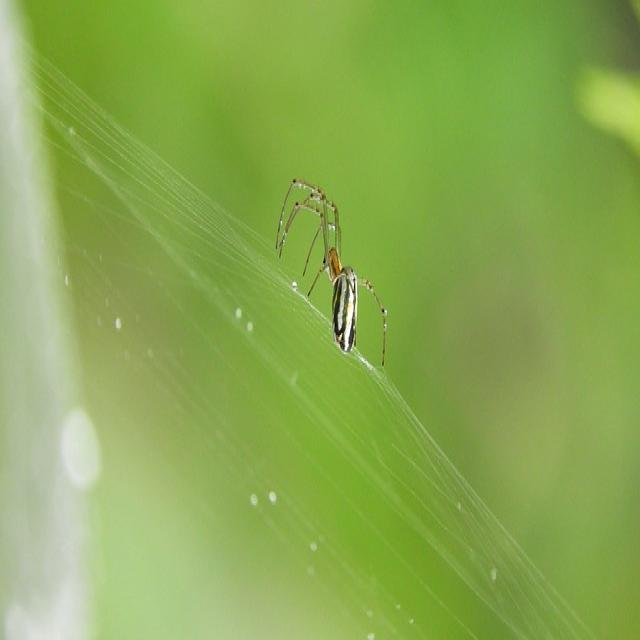spyder: (276, 180, 359, 353), (360, 278, 386, 365)
